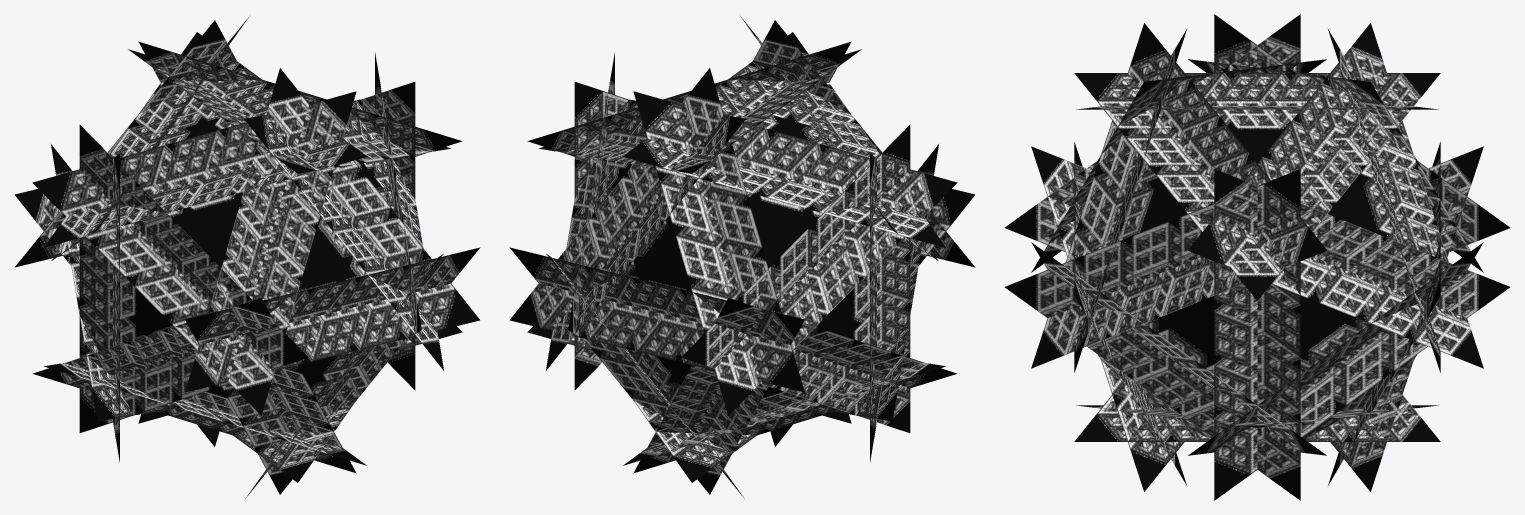
The model's file is 16GreatDodecicosidodecahedron.gltf.
The picture shows the model from 3 angles, left to right: view 1: azimuth 30°, elevation 25°; view 2: azimuth 150°, elevation 25°; view 3: azimuth 270°, elevation 25°; orthographic projection. The views are drawn at different scales.
Visible parts, largest first — view 1: 20GreatDodecicosidodecahedron; view 2: 20GreatDodecicosidodecahedron; view 3: 20GreatDodecicosidodecahedron.
Part boxes in pixels (x1,y1,x2,y2): 20GreatDodecicosidodecahedron: (14, 16, 480, 498); 20GreatDodecicosidodecahedron: (509, 16, 975, 498); 20GreatDodecicosidodecahedron: (1004, 14, 1510, 500).
Bounding box in the file's own units: 1.38 × 1.38 × 1.38.
Materials: 1 (1 with a texture image).
